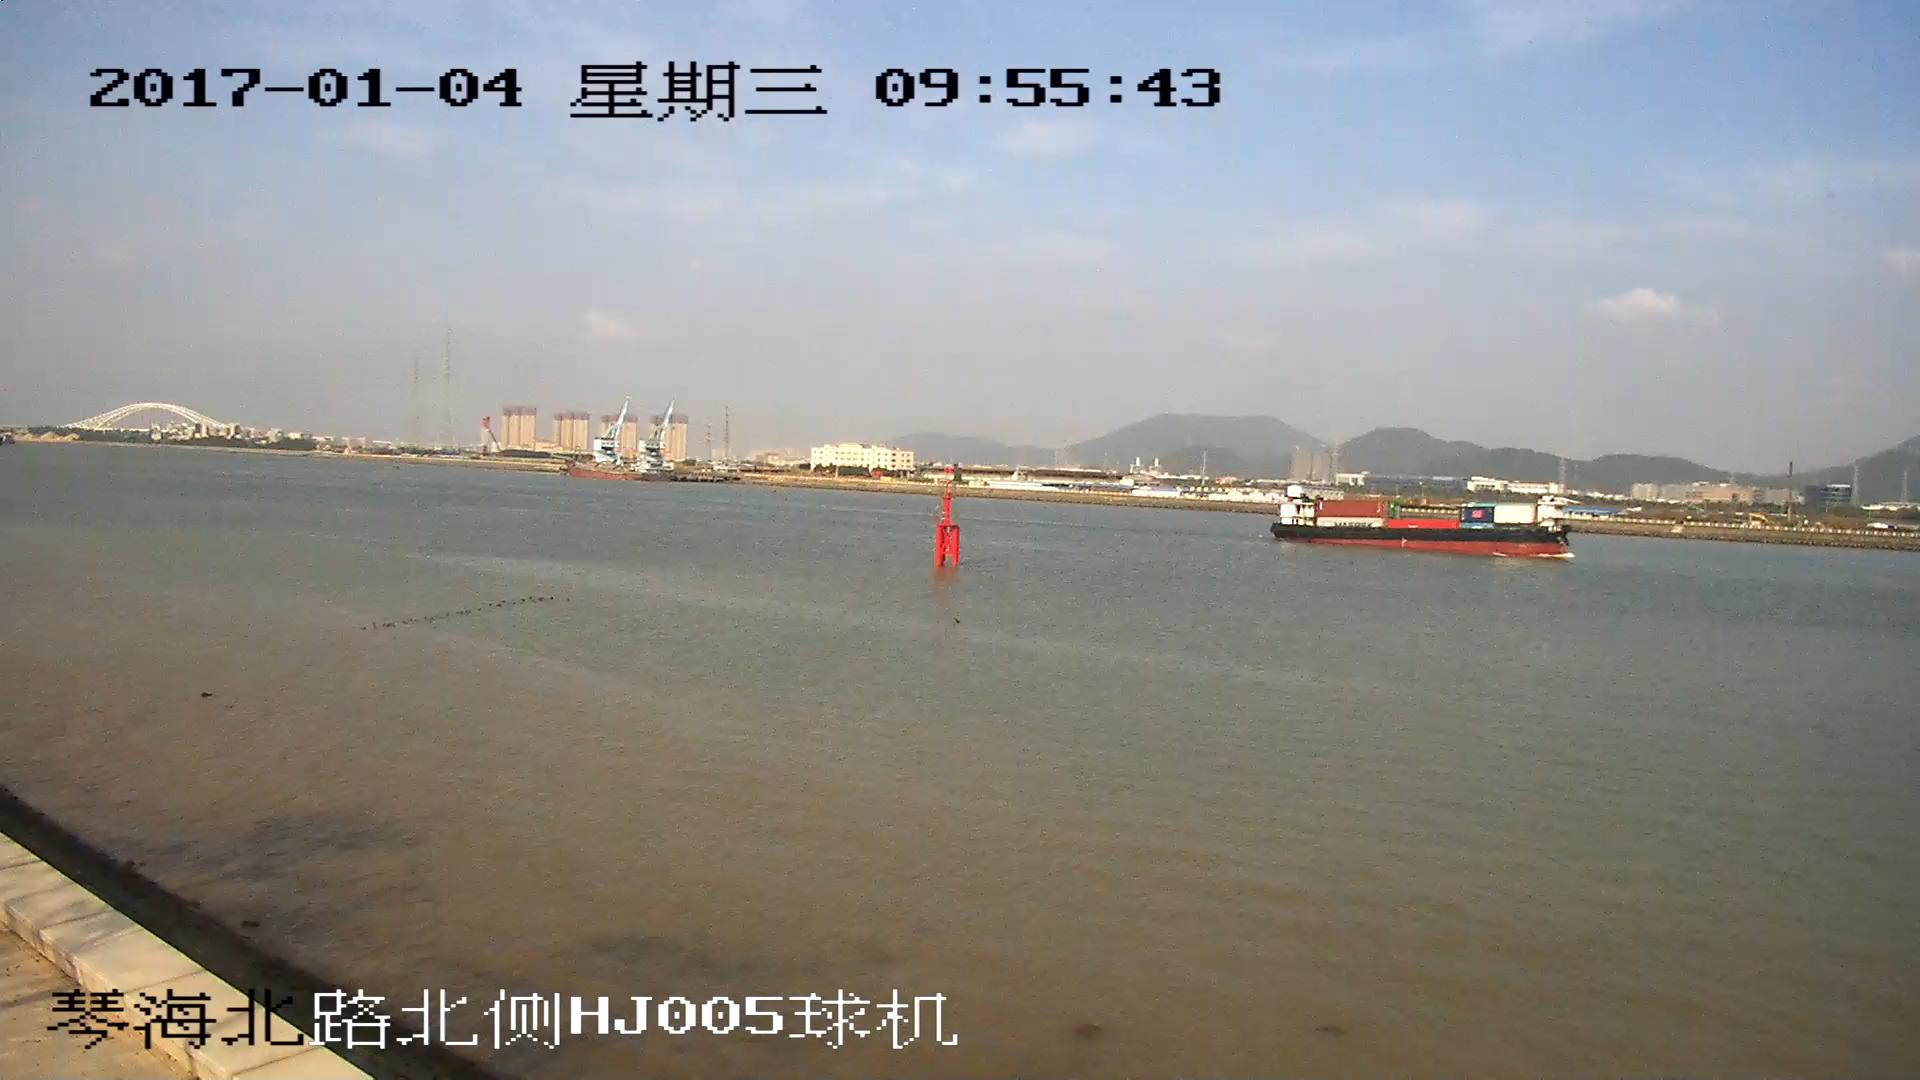container ship: (1273, 486, 1568, 556)
